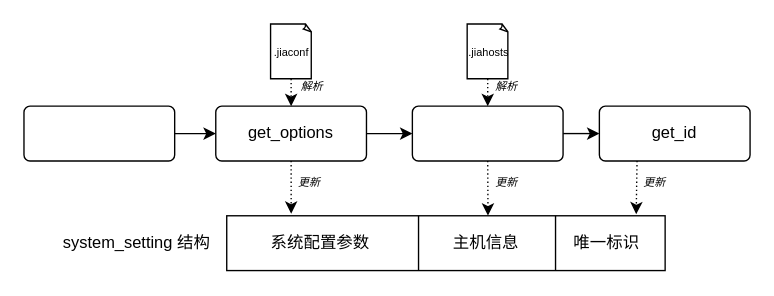
Some shapes in this 774 by 296 pixel diagram are drawn without their labels. Here are the shapes that lost their labels. From the top down, the box of each, then its label:
(23, 105, 175, 161): init_setting
(411, 105, 563, 161): get_hosts
